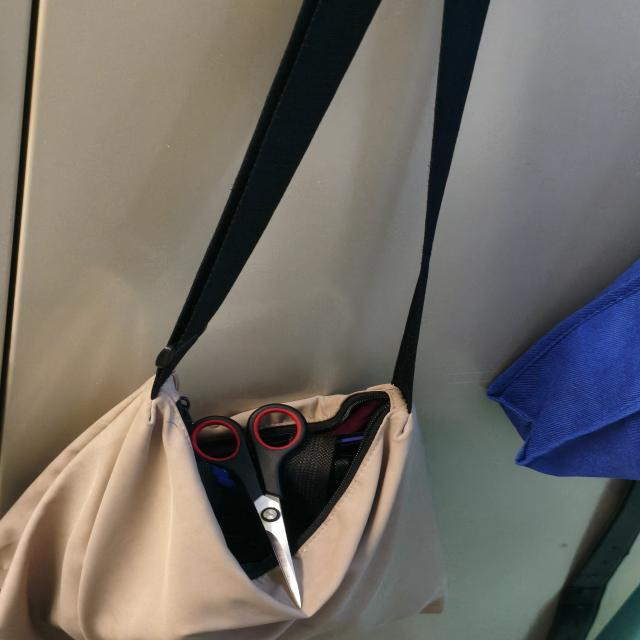scissor: (191, 404, 307, 608)
